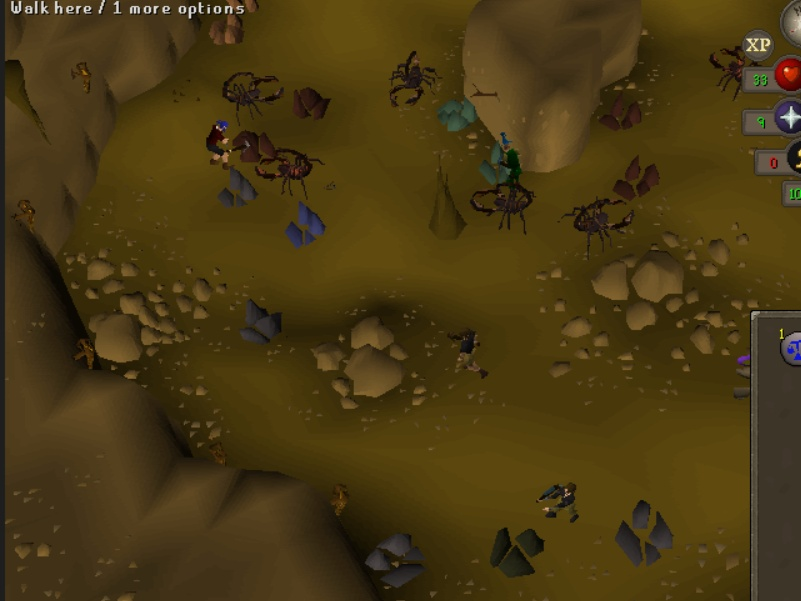adamant: (432, 92, 482, 138), (471, 138, 521, 184)
coal: (482, 519, 549, 581)
copper: (203, 11, 245, 50), (222, 1, 262, 19)
iron: (598, 90, 650, 136), (228, 119, 280, 165), (287, 76, 339, 122), (611, 153, 663, 199)
mithril: (278, 198, 332, 252)
